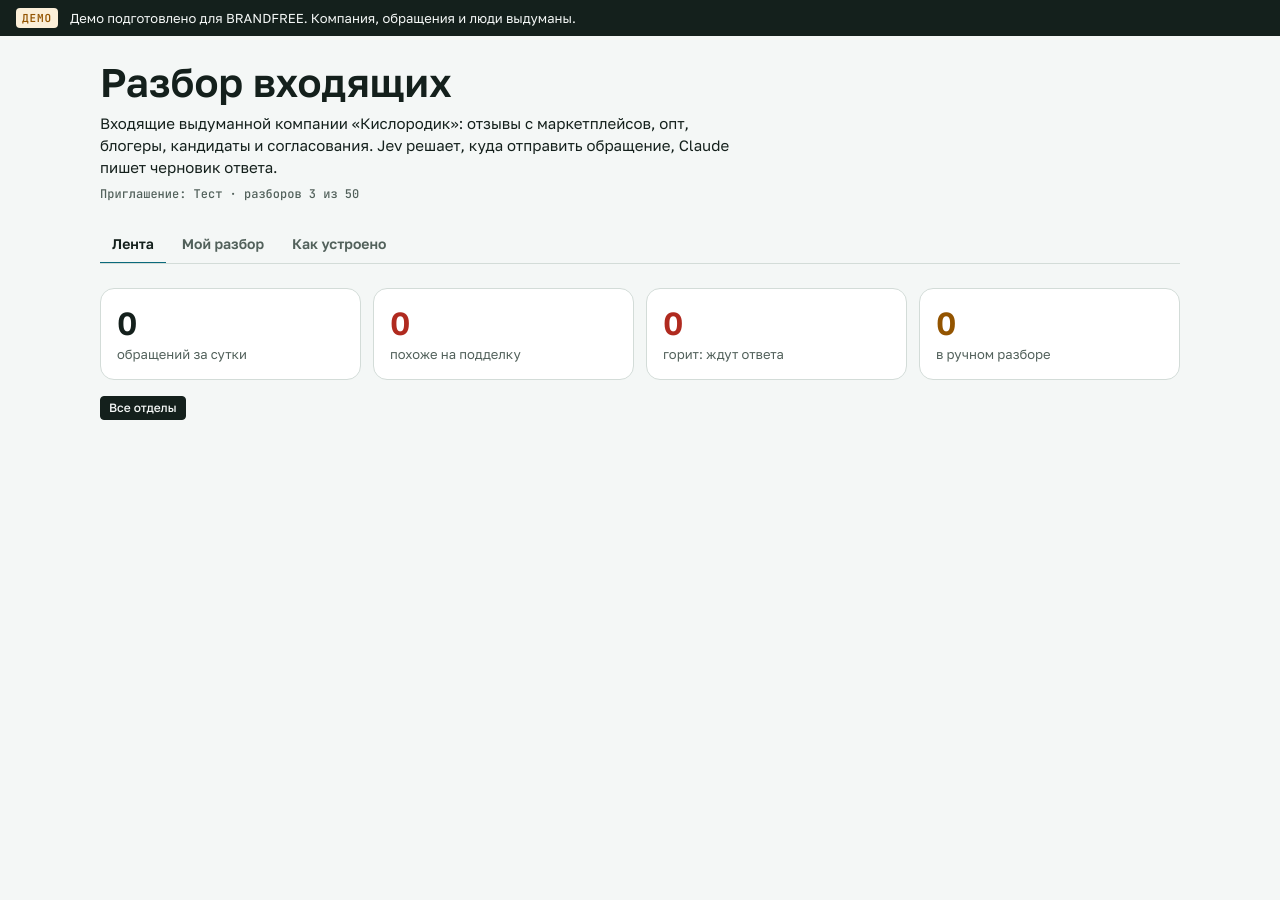
Test: App › разбор, черновик и счётчик переживают смену вкладки
What coordinates should you click on to do the following:
click the tab "Мой разбор"
I would click on:
 (223, 245)
Its box is [170,226,276,264].
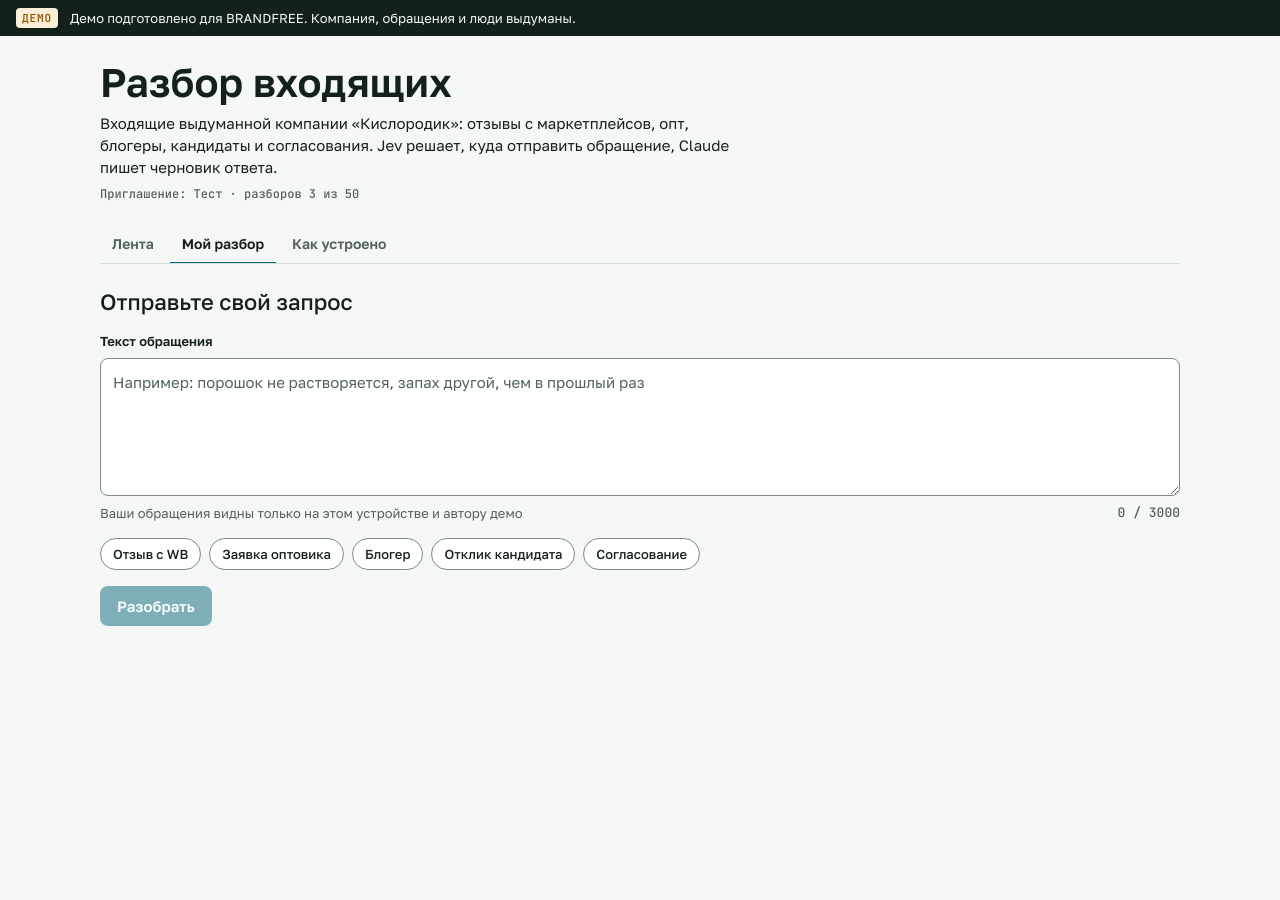
What coordinates should you click on to do the following:
click the button "Отзыв с WB"
I would click on:
 (151, 554)
Its box is [100,538,201,570].
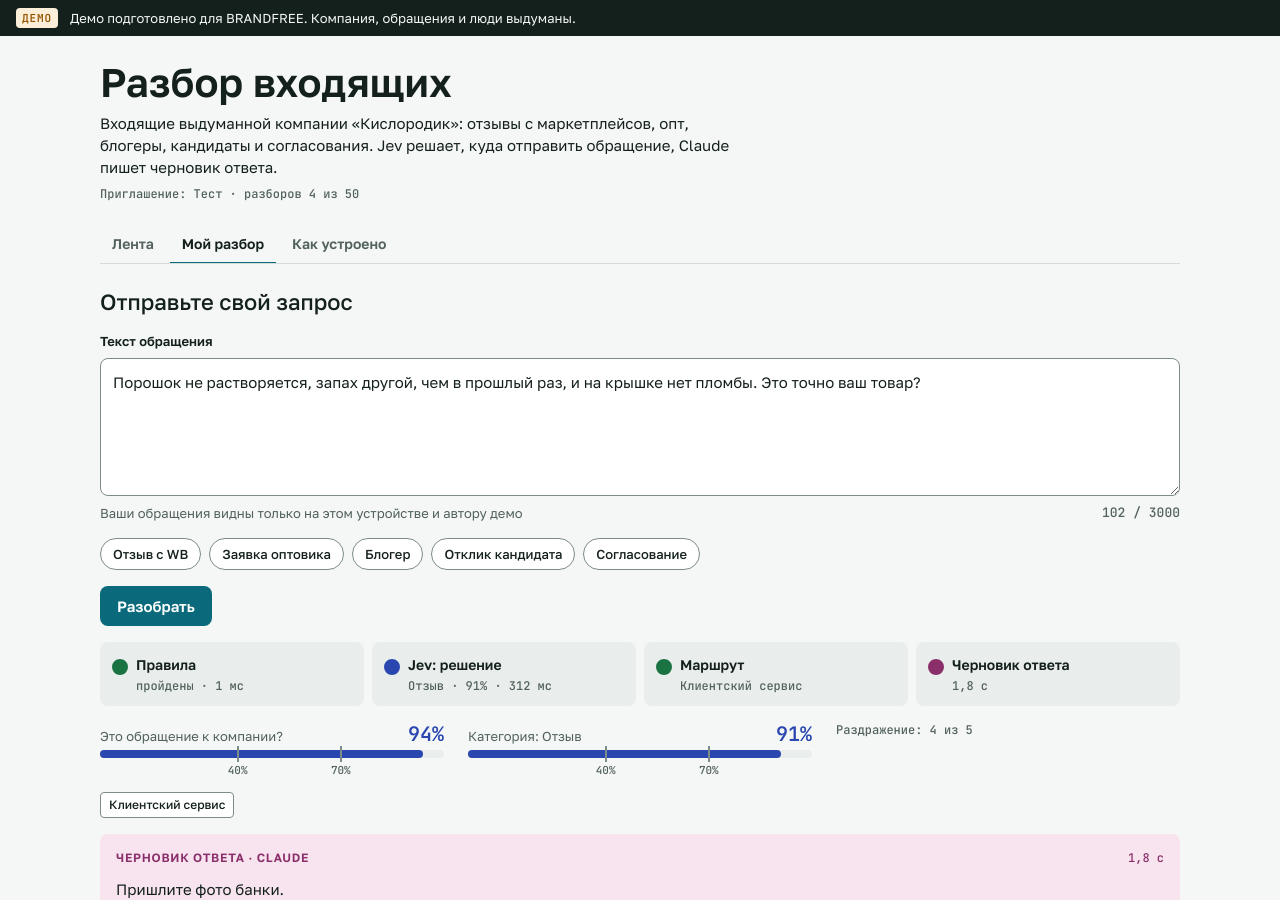
Now the text "Пришлите фото банки." is shown, box [116,880,284,898]
Now the text "Приглашение: Тест · разборов 4 из 50" is shown, box [100,186,359,202]
What coordinates should you click on to do the following:
click the tab "Лента"
I would click on:
 (133, 245)
Its box is [100,226,166,264].
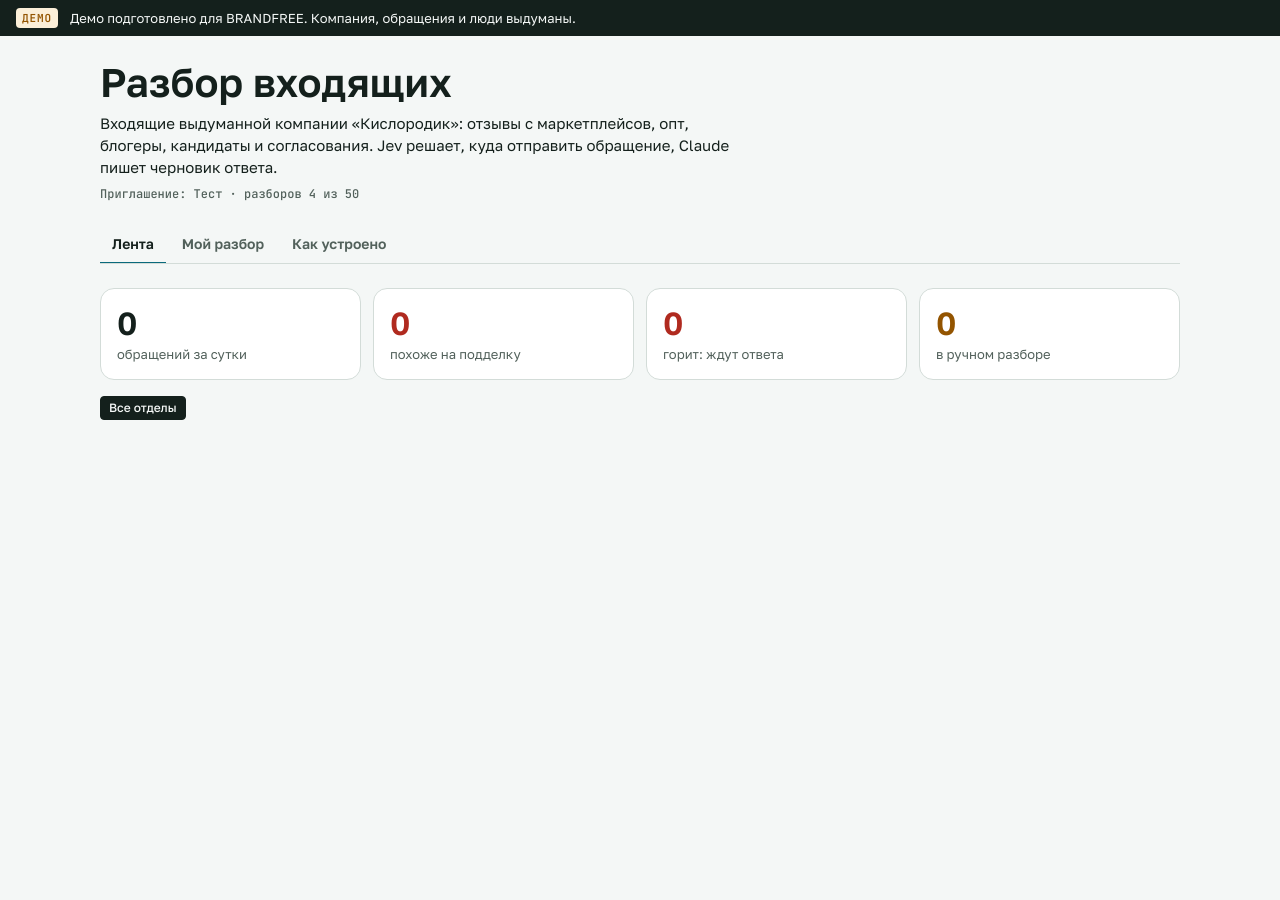
What coordinates should you click on to do the following:
click the tab "Мой разбор"
I would click on:
 (223, 245)
Its box is [170,226,276,264].
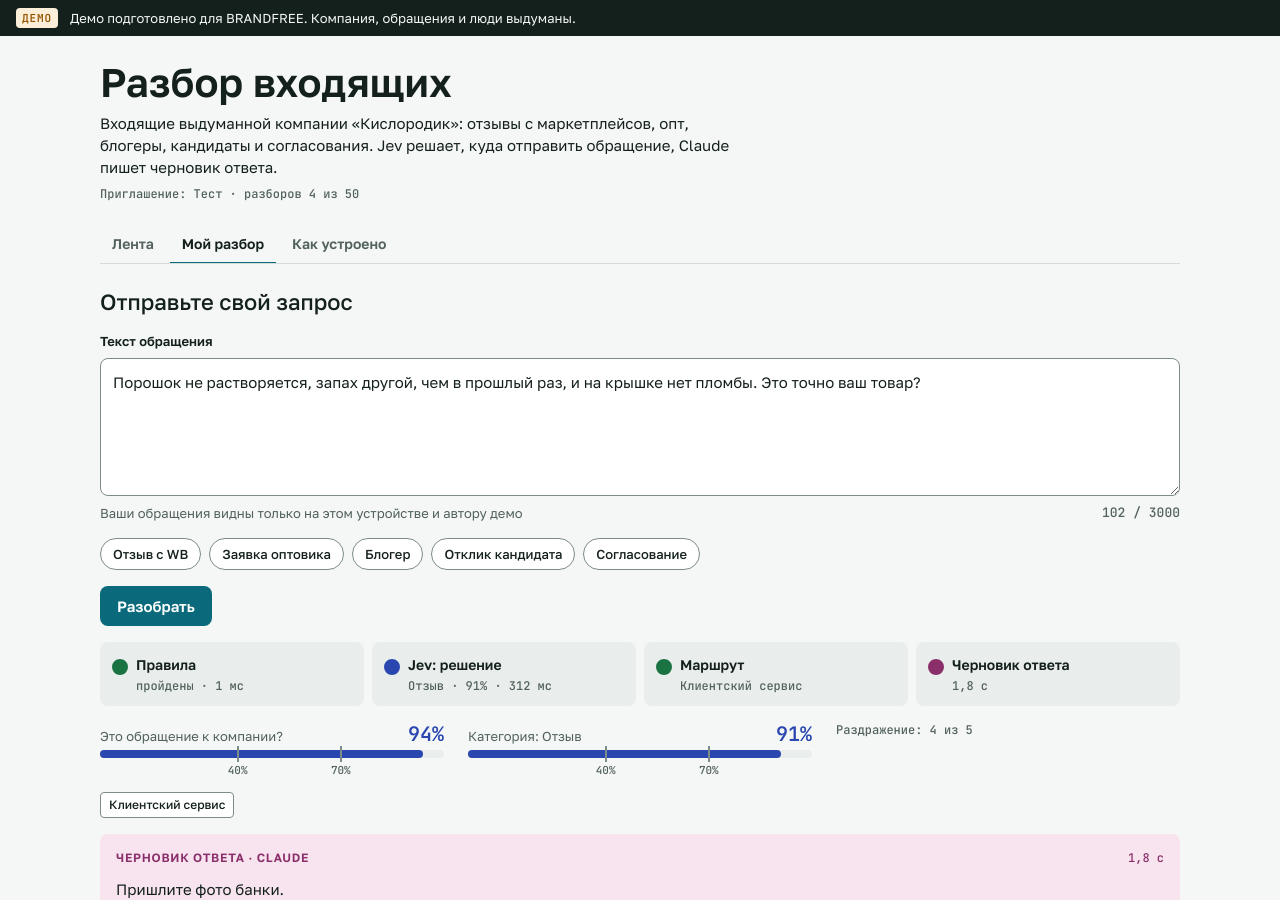
Now the text "Приглашение: Тест · разборов 4 из 50" is shown, box [100,186,359,202]
Now the text "Пришлите фото банки." is shown, box [116,880,284,898]
